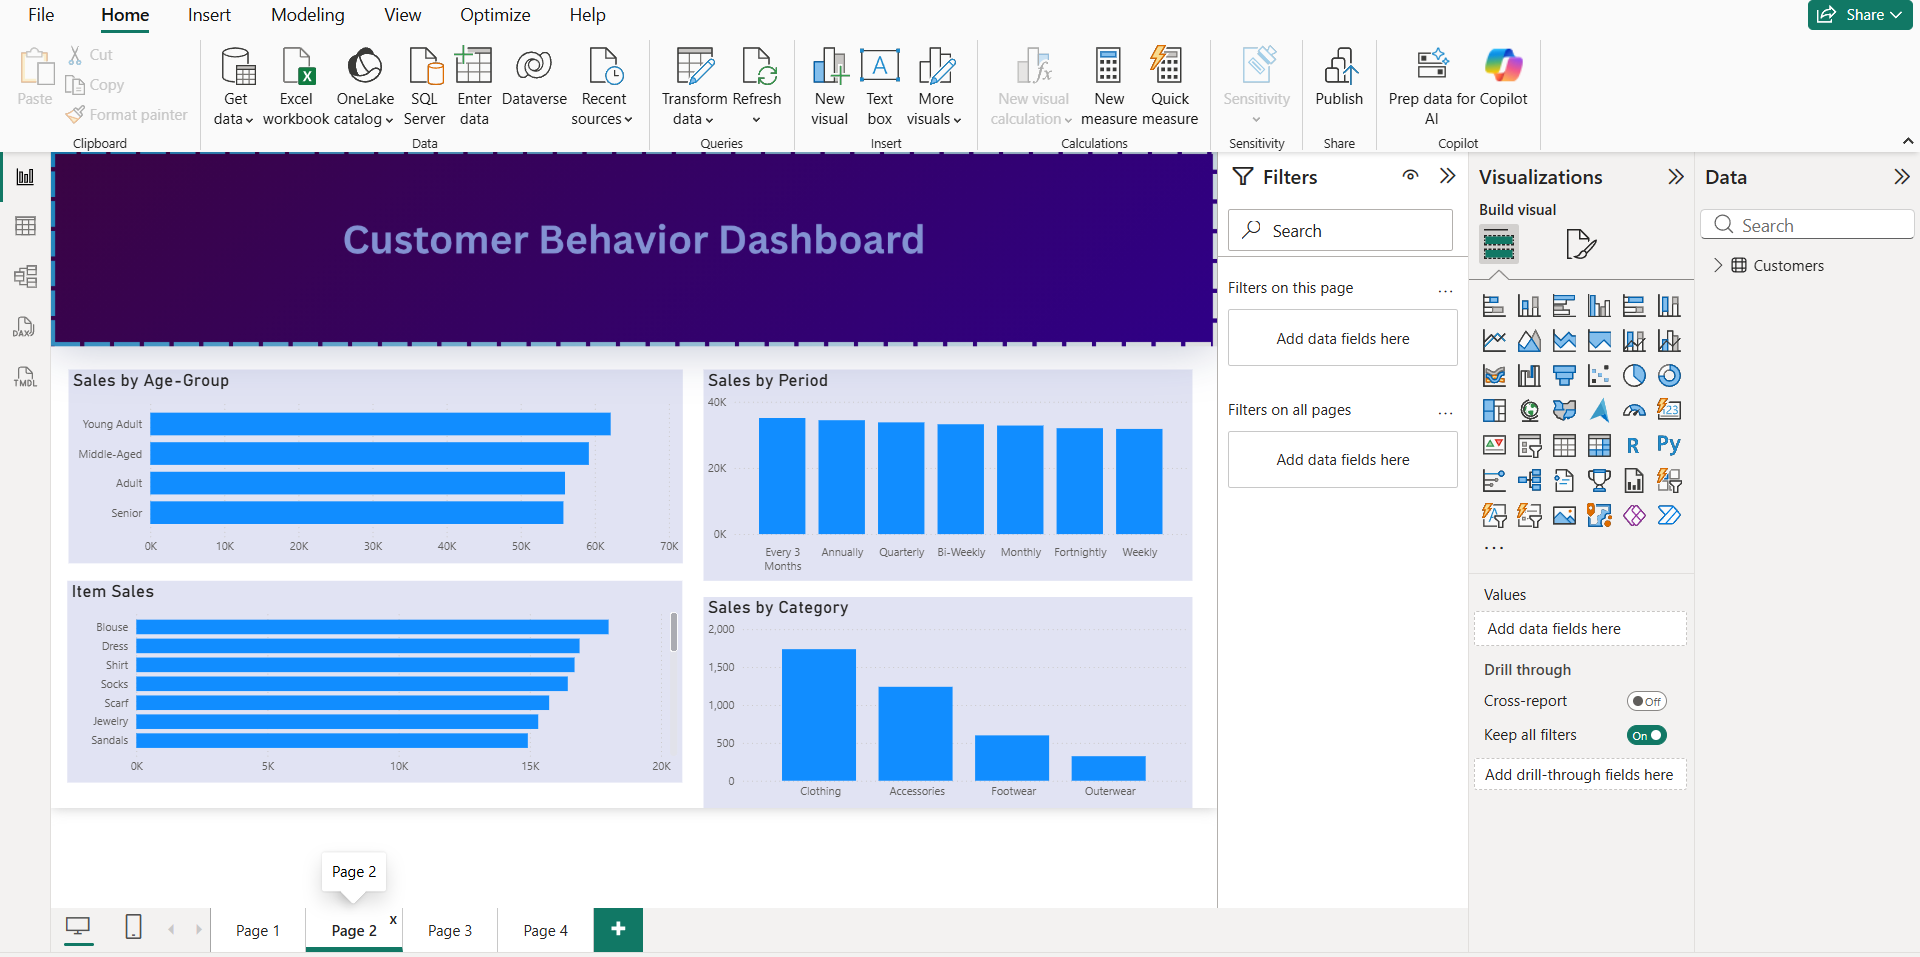

The dashboard page shown, as its layout file describes it:
{"tool":"powerbi","page":{"name":"Page 2","canvas":[1280,720],"ordinal":1},"visuals":[{"type":"clusteredBarChart","title":"Sales by Age-Group","fields":{"Category":["Customers.age_group"],"Y":["Sum(Customers.Purchase_amount)"]},"box":[18.6,238.6,674.3,212.9],"z":0},{"type":"clusteredBarChart","title":"Item Sales","fields":{"Category":["Customers.item_purchased"],"Y":["Sum(Customers.purchase_frequency_days)"]},"box":[18.3,470,675,221.7],"z":1000},{"type":"clusteredColumnChart","title":"Sales by Period","fields":{"Category":["Customers.frequency_of_purchases"],"Y":["Sum(Customers.Purchase_amount)"]},"box":[716.3,238.8,536.5,231.9],"z":2000},{"type":"clusteredColumnChart","title":"Sales by Category","fields":{"Category":["Customers.category"],"Y":["CountNonNull(Customers.customer_id)"]},"box":[716.3,488.5,536.5,231.9],"z":2001}]}

Visuals, with their boxes on the page's 1280x720 design canvas (x1, y1, x2, y2). These are canvas units, not pixel positions in the 1920x957 screenshot, which may show the page scaled, cropped or inside an application window:
"Sales by Age-Group" clusteredBarChart: <region>19, 239, 693, 452</region>
"Item Sales" clusteredBarChart: <region>18, 470, 693, 692</region>
"Sales by Period" clusteredColumnChart: <region>716, 239, 1253, 471</region>
"Sales by Category" clusteredColumnChart: <region>716, 488, 1253, 720</region>
